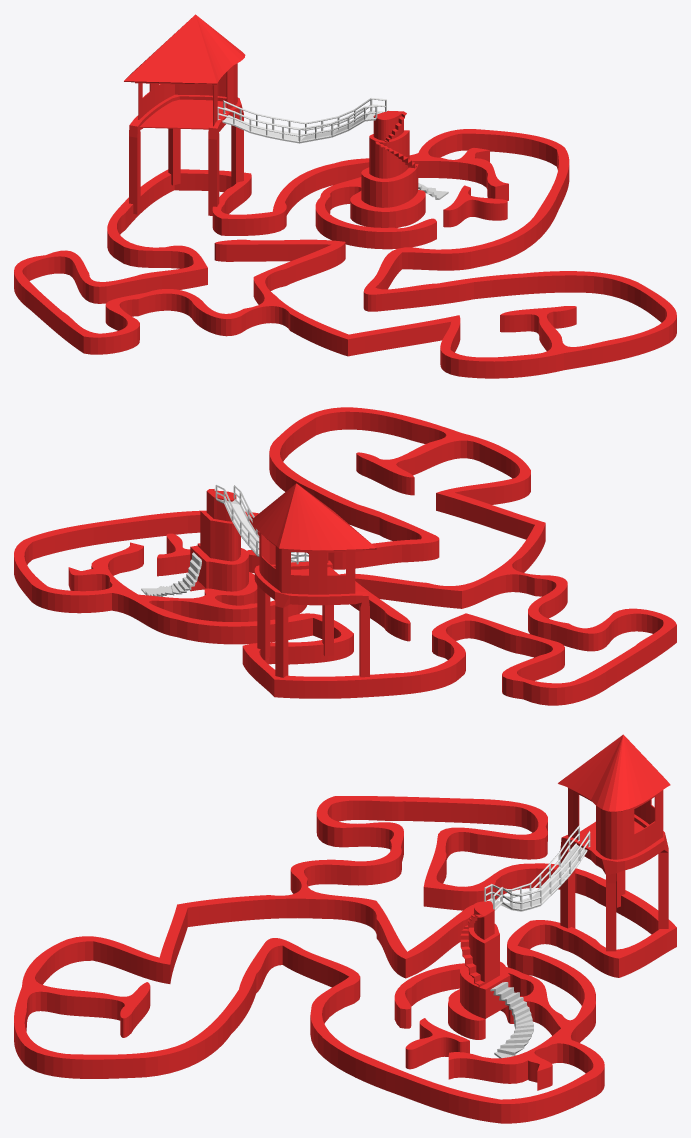
The model's file is rts map.fbx.
The picture shows the model from 3 angles, top to bottom: view 1: azimuth 30°, elevation 25°; view 2: azimuth 150°, elevation 25°; view 3: azimuth 270°, elevation 25°; orthographic projection. The views are drawn at different scales.
Visible parts, largest first — view 1: path186004.005, path186004.007, path186004.006, Plane.004, Plane.003; view 2: path186004.005, path186004.007, path186004.006, Plane.004, Plane.005, Plane.003; view 3: path186004.005, path186004.007, path186004.006, Plane.004, Plane.005, Plane.003.
Boxes of the visible parts, x1,y1,x2,y2 form: path186004.005: (14, 110, 676, 378); path186004.007: (124, 14, 245, 129); path186004.006: (129, 94, 243, 215); Plane.004: (217, 97, 386, 142); Plane.003: (222, 111, 381, 143); path186004.005: (14, 407, 676, 705); path186004.007: (252, 483, 376, 594); path186004.006: (254, 560, 369, 677); Plane.004: (215, 485, 308, 564); Plane.005: (141, 552, 201, 596); Plane.003: (216, 499, 304, 562); path186004.005: (14, 796, 676, 1123); path186004.007: (558, 734, 670, 859); path186004.006: (560, 814, 668, 951); Plane.004: (484, 825, 590, 910); Plane.005: (490, 982, 533, 1058); Plane.003: (490, 845, 586, 911).
Size of the model in its own units: 6947 by 2276 by 6316.
